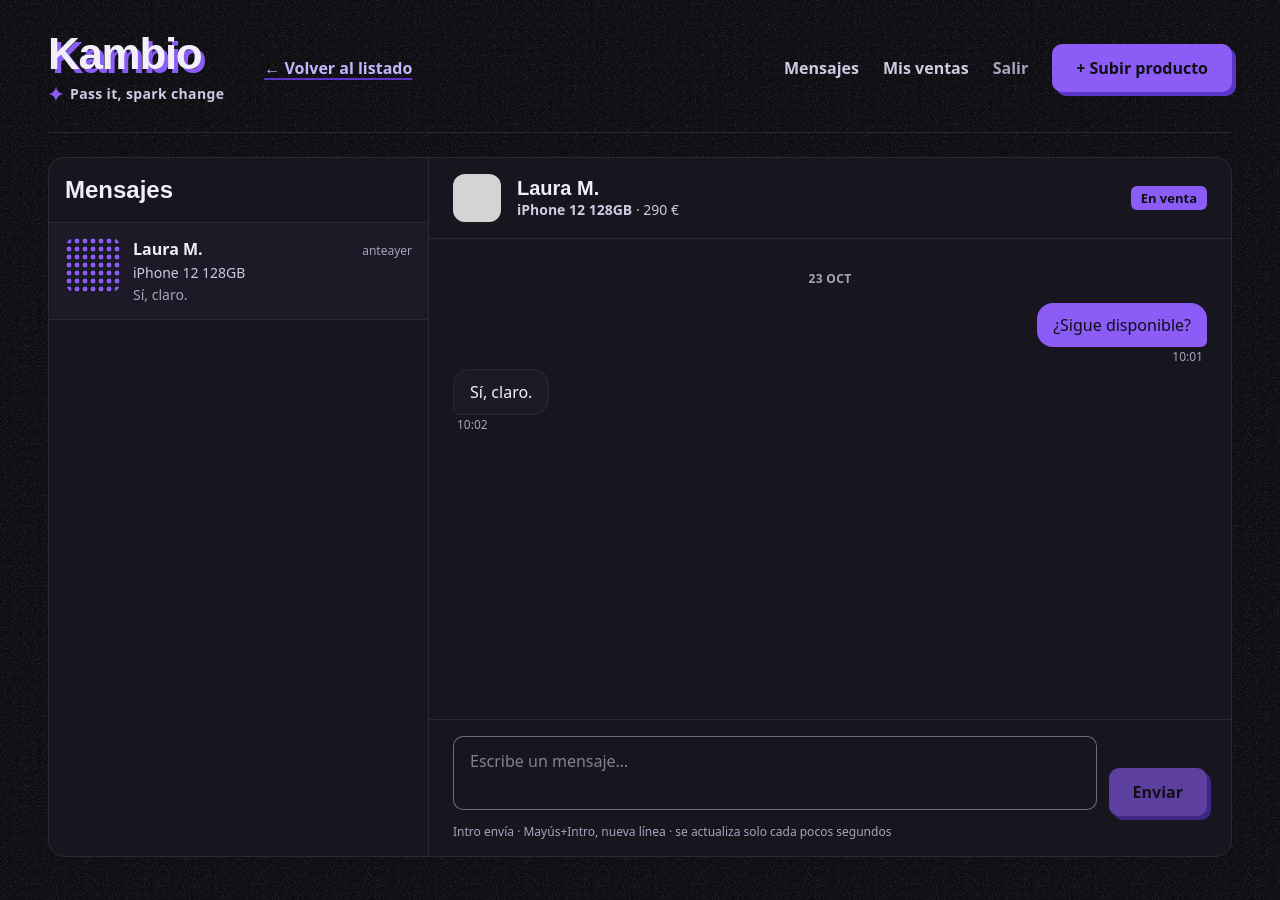
Test: ChatPage › envía con Intro, añade el mensaje y vacía la caja
The width and height of the screenshot is (1280, 900).
Check: the text "Sí, claro." is shown, box [453,369,549,415]
Type "  Perfecto, lo quiero" into the text box labelled "Escribe un mensaje…" at [775, 773], box [453,736,1097,810]
Then press Enter
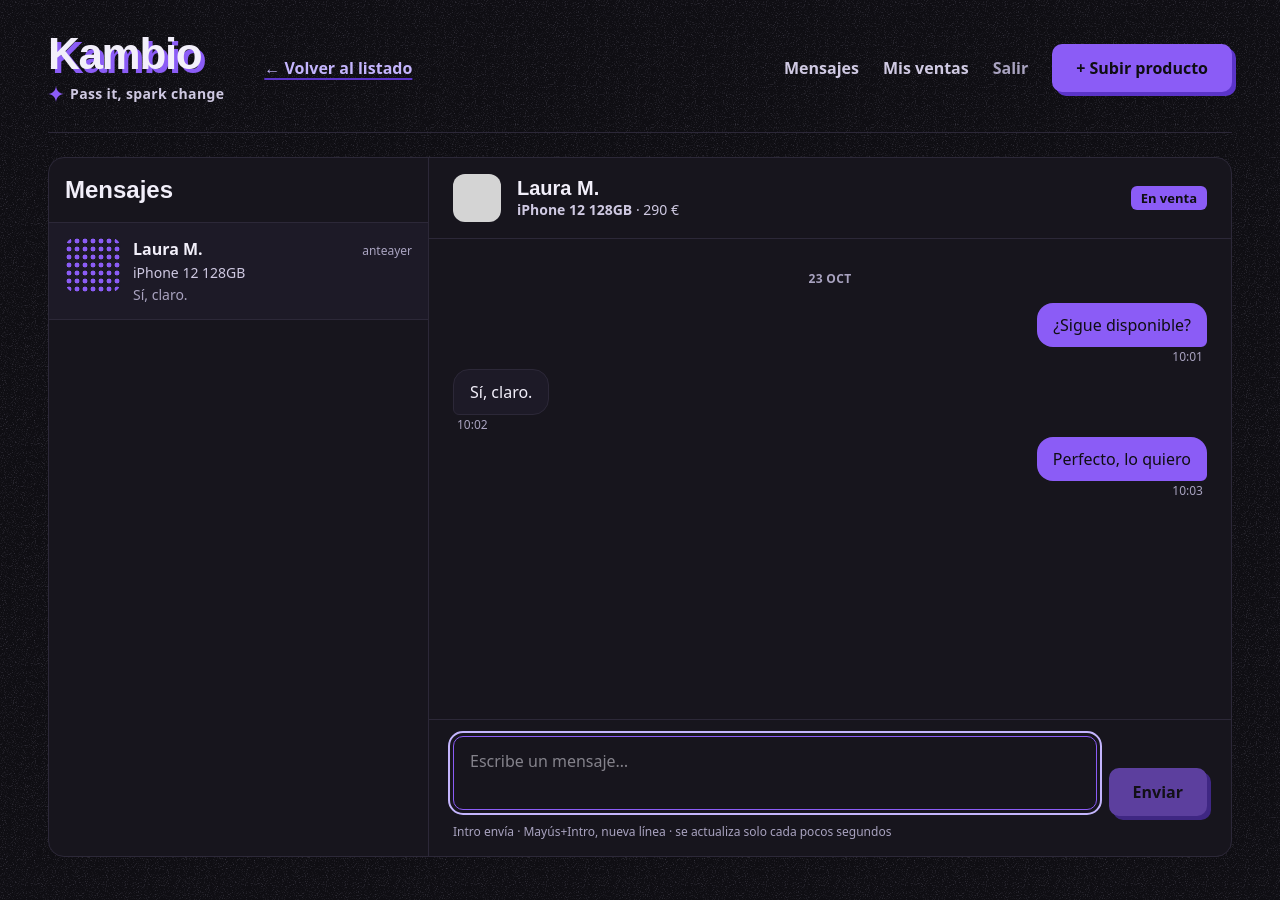
Check: the text "Perfecto, lo quiero" is shown, box [1037,437,1207,481]
